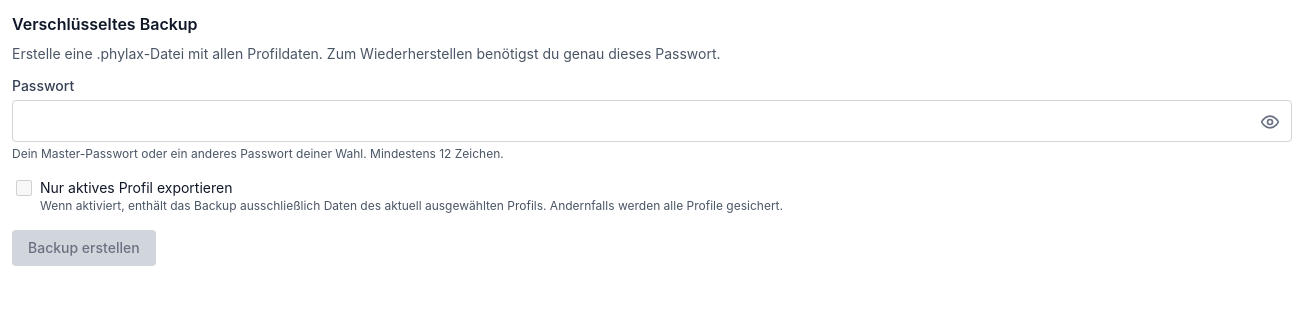
Test: BackupExportSection › renders an error message when the keystore is locked
Type "long-enough-12" into the password field labelled "Passwort".
click(652, 121); type("long-enough-12")  # box x1=12 y1=100 x2=1292 y2=142
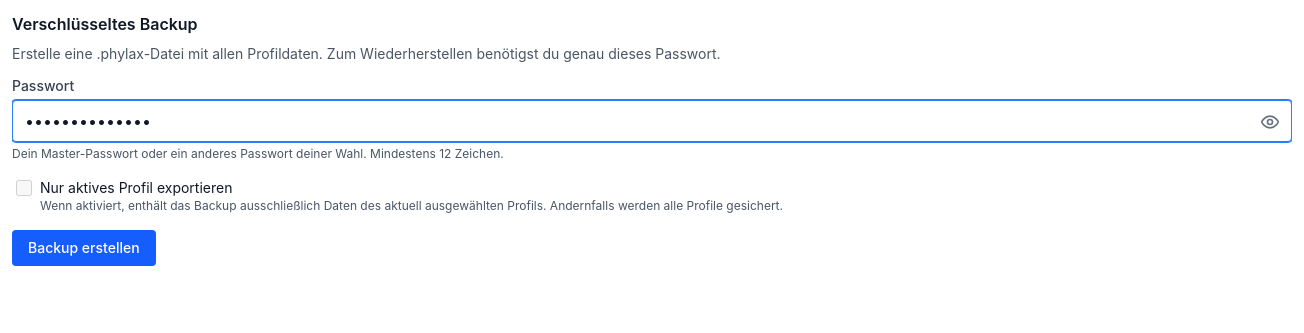
Click the button "Backup erstellen".
click(84, 248)  # box x1=12 y1=230 x2=156 y2=266
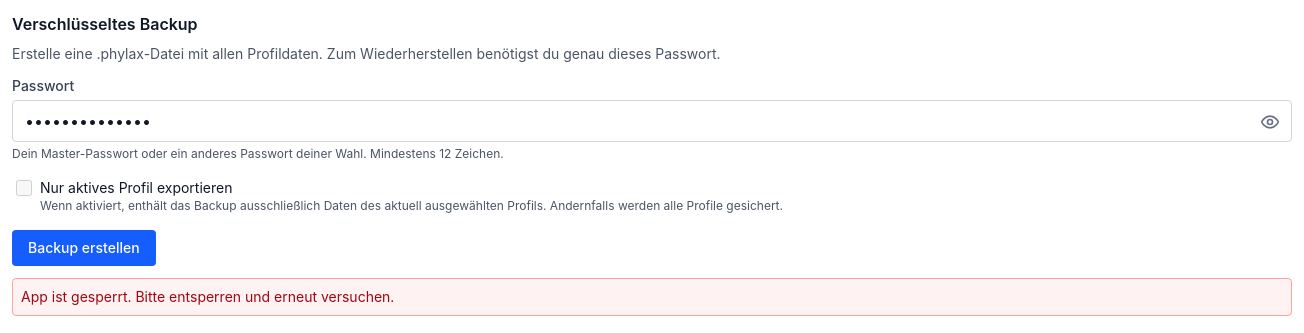
Expected: the message shows "App ist gesperrt", x1=21 y1=288 x2=394 y2=305
